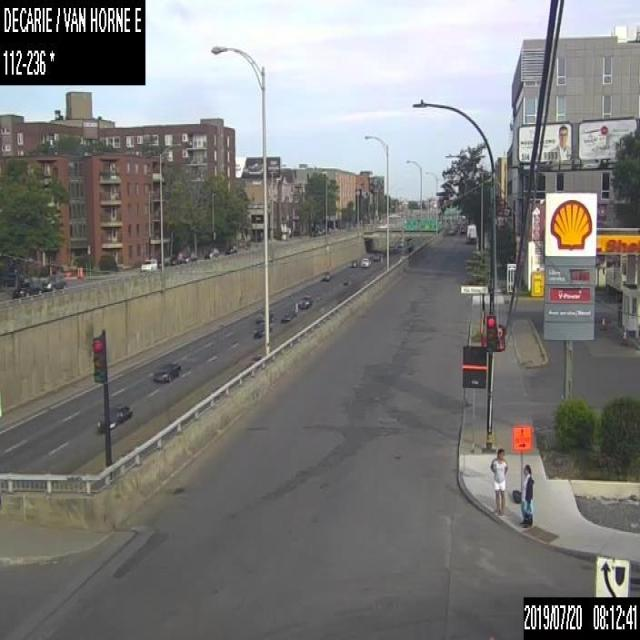construction: (511, 424, 530, 500), (620, 328, 626, 346), (599, 315, 606, 329), (79, 266, 82, 277), (76, 267, 79, 277)
pedestrian: (489, 448, 508, 516), (521, 463, 534, 525)
vehicle: (96, 403, 132, 431), (152, 360, 182, 382), (12, 280, 41, 298), (41, 274, 66, 291), (280, 298, 297, 322), (252, 322, 270, 338), (255, 309, 273, 324), (464, 223, 476, 241), (140, 257, 156, 270), (297, 296, 312, 308), (203, 247, 219, 258), (181, 252, 196, 263), (320, 270, 332, 282), (224, 243, 237, 253), (372, 252, 384, 261), (348, 257, 358, 267), (360, 257, 370, 266), (168, 256, 178, 264)
